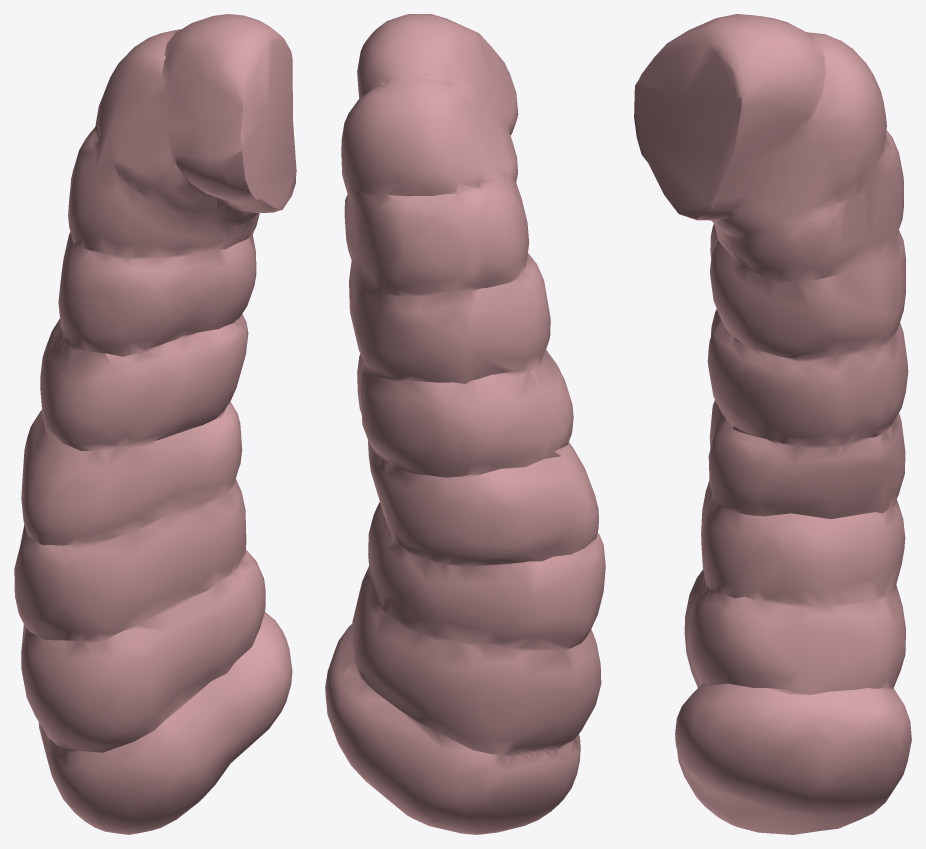
Rendered from fma14545_fj2566.glb.
3 views of the same model, side by side, from view 1: azimuth 30°, elevation 25°; view 2: azimuth 150°, elevation 25°; view 3: azimuth 270°, elevation 25° (orthographic). The views are drawn at different scales.
Visible parts, largest first — view 1: FMA14545_FJ2566; view 2: FMA14545_FJ2566; view 3: FMA14545_FJ2566.
Boxes of the visible parts, x1,y1,x2,y2 form: FMA14545_FJ2566: [14, 14, 296, 834]; FMA14545_FJ2566: [325, 14, 605, 834]; FMA14545_FJ2566: [634, 14, 911, 834].
Size of the model in its own units: 0.0629 by 0.1857 by 0.0548.
